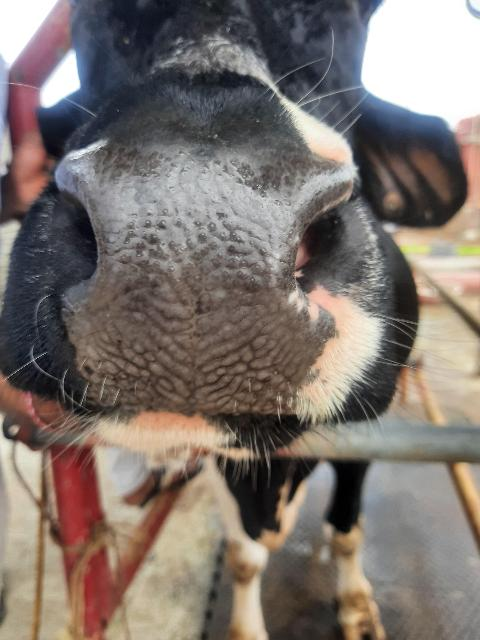Muzzle: (66, 152, 310, 414)
